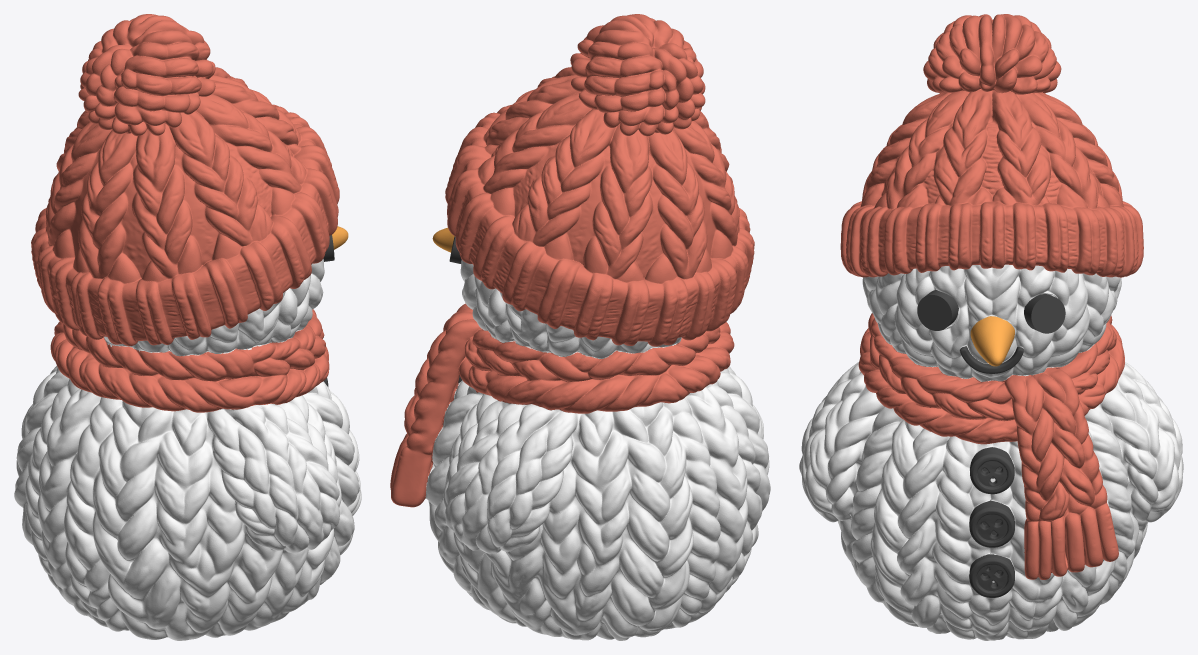
File: muneco_nieve_armado.glb
The picture shows the model from 3 angles, left to right: view 1: azimuth 30°, elevation 25°; view 2: azimuth 150°, elevation 25°; view 3: azimuth 270°, elevation 25°; orthographic projection. The views are drawn at different scales.
Parts seen in each view (by area): view 1: hat, body, scarf, head; view 2: hat, body, scarf, head; view 3: body, hat, scarf, head, boton2, boton1, boton3, nariz, ojo_a, ojo_b, boca.
Part boxes in pixels (<box>): hat: <box>31,14,339,346</box>; body: <box>14,366,361,640</box>; scarf: <box>50,309,329,412</box>; head: <box>104,259,324,356</box>; hat: <box>445,14,754,346</box>; body: <box>425,366,770,640</box>; scarf: <box>390,303,734,507</box>; head: <box>460,259,681,358</box>; body: <box>799,362,1183,640</box>; hat: <box>840,14,1143,277</box>; scarf: <box>858,313,1124,579</box>; head: <box>862,264,1121,381</box>; boton2: <box>969,499,1014,547</box>; boton1: <box>970,447,1014,494</box>; boton3: <box>969,553,1014,597</box>; nariz: <box>970,316,1014,366</box>; ojo_a: <box>1024,294,1065,333</box>; ojo_b: <box>917,290,958,330</box>; boca: <box>960,346,1023,373</box>.
Bounding box in the file's own units: 0.0357 × 0.0643 × 0.0397.
